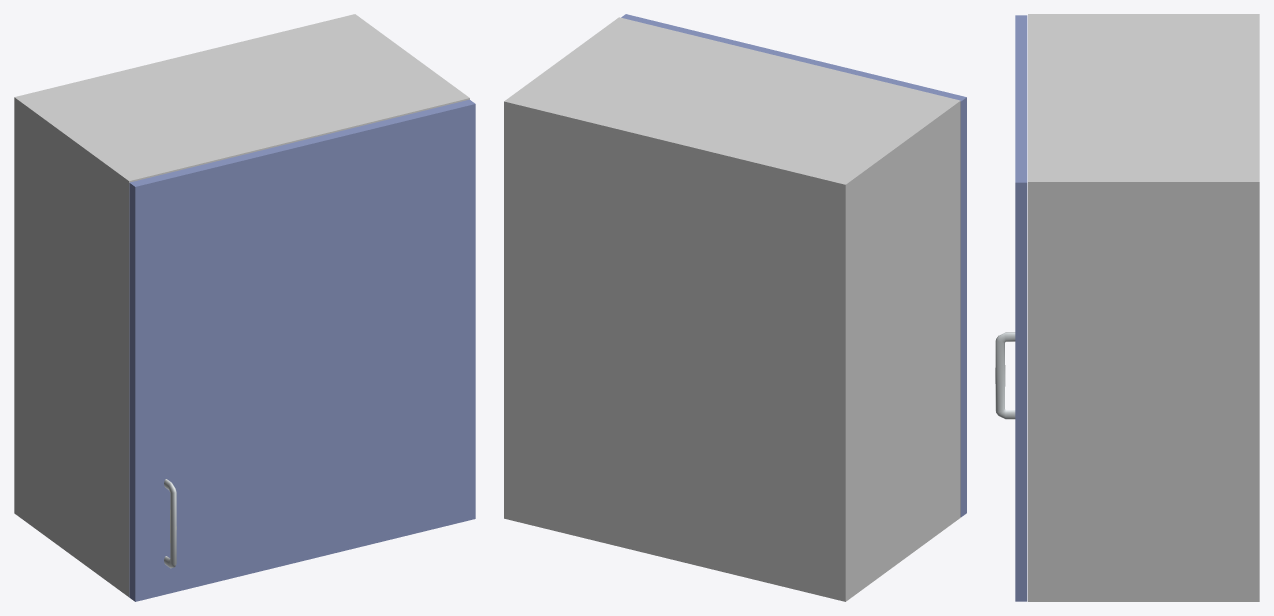
File: KitchenCabinetsJoined.fbx
3 renders of one model, left to right at view 1: azimuth 30°, elevation 25°; view 2: azimuth 150°, elevation 25°; view 3: azimuth 270°, elevation 25°, orthographic.
Parts seen in each view (by area): view 1: Cabinet1_Door, Cabinet1; view 2: Cabinet1, Cabinet1_Door; view 3: Cabinet1, Cabinet1_Door.
Boxes of the visible parts, x1,y1,x2,y2 form: Cabinet1_Door: (129,99,475,601); Cabinet1: (14,14,469,596); Cabinet1: (504,17,960,601); Cabinet1_Door: (621,14,966,517); Cabinet1: (1028,14,1259,601); Cabinet1_Door: (995,15,1027,601).
Size of the model in its own units: 60 by 70 by 39.9.
